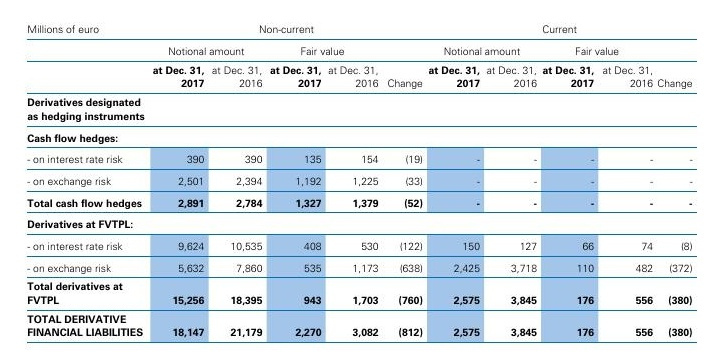table: (0, 0, 717, 359)
